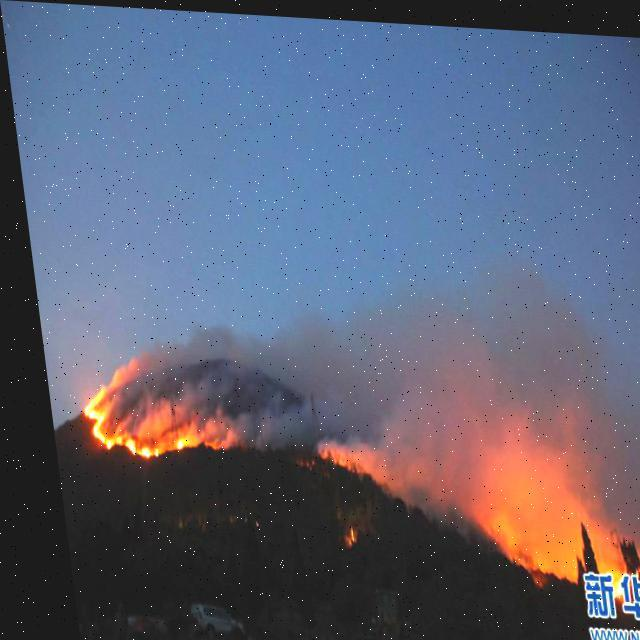Fire: (464, 492, 639, 592), (68, 364, 224, 464), (306, 436, 372, 478)
